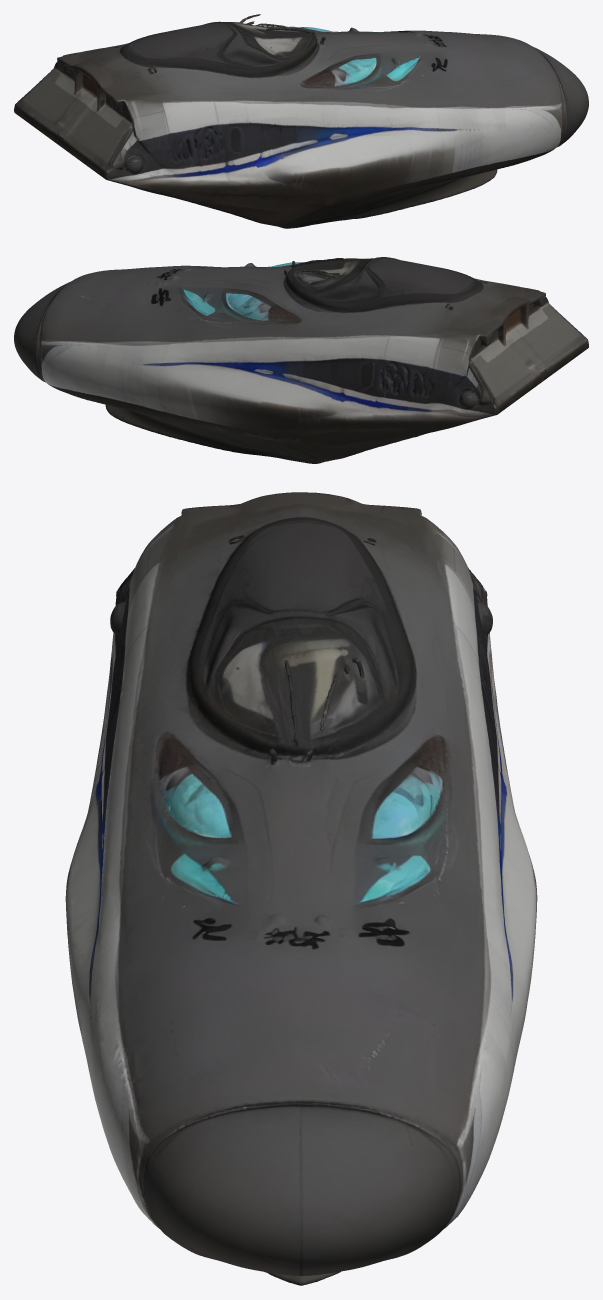
The model's file is CRH380A.glb.
The picture shows the model from 3 angles, top to bottom: view 1: azimuth 30°, elevation 25°; view 2: azimuth 150°, elevation 25°; view 3: azimuth 270°, elevation 25°; orthographic projection. The views are drawn at different scales.
Parts seen in each view (by area): view 1: tripo_node_bb3d064e-e47f-48cc-9486-c10e4507d189; view 2: tripo_node_bb3d064e-e47f-48cc-9486-c10e4507d189; view 3: tripo_node_bb3d064e-e47f-48cc-9486-c10e4507d189.
Boxes of the visible parts, x1=… form: tripo_node_bb3d064e-e47f-48cc-9486-c10e4507d189: x1=14, y1=14, x2=588, y2=228; tripo_node_bb3d064e-e47f-48cc-9486-c10e4507d189: x1=14, y1=257, x2=588, y2=463; tripo_node_bb3d064e-e47f-48cc-9486-c10e4507d189: x1=65, y1=492, x2=537, y2=1285.
Size of the model in its own units: 1 by 0.3847 by 0.3932.
Materials: 1 (1 with a texture image).
